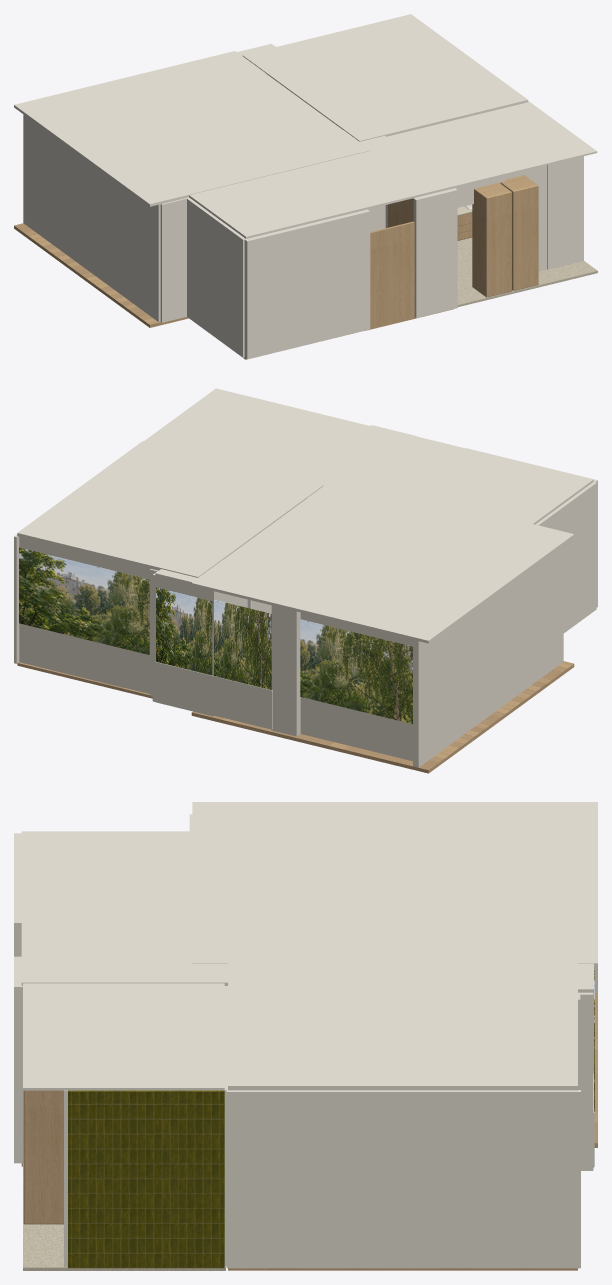
The model's file is apartment.glb.
The picture shows the model from 3 angles, top to bottom: view 1: azimuth 30°, elevation 25°; view 2: azimuth 150°, elevation 25°; view 3: azimuth 270°, elevation 25°; orthographic projection. The views are drawn at different scales.
Visible parts, largest first — view 1: Warm ceiling, Bedroom ceiling, Entry side.001, West wall, Bathroom ceiling, Storage ceiling, Dressing wall, Hall ceiling, Entry side, Entry door, Laundry tower, Tub end wall (+7 smaller); view 2: Warm ceiling, Bedroom ceiling, West wall, Bathroom ceiling, Pale sky glass.001, Pale sky glass, Storage ceiling, Hall ceiling, Wall below sill.001, Dressing wall, Loggia outer wall, Balcony glazing (+10 smaller); view 3: Warm ceiling, Headboard wall, Bedroom ceiling, Bath back wall, Bathroom ceiling, Storage ceiling, Hall ceiling, Laundry tower.001, Terrazzo floor, Loggia end wall, Entry side, Bedroom floor (+4 smaller).
Boxes of the visible parts, left/top/right/bottom form: Warm ceiling: left=14, top=51, right=370, bottom=206; Bedroom ceiling: left=242, top=14, right=528, bottom=141; Entry side.001: left=244, top=209, right=370, bottom=359; West wall: left=23, top=114, right=160, bottom=321; Bathroom ceiling: left=387, top=102, right=597, bottom=187; Storage ceiling: left=189, top=166, right=365, bottom=238; Dressing wall: left=187, top=198, right=245, bottom=357; Hall ceiling: left=308, top=130, right=453, bottom=209; Entry side: left=413, top=188, right=457, bottom=318; Entry door: left=370, top=221, right=414, bottom=328; Laundry tower: left=472, top=182, right=511, bottom=297; Tub end wall: left=547, top=156, right=583, bottom=269; Warm ceiling: left=191, top=476, right=574, bottom=643; Bedroom ceiling: left=17, top=441, right=323, bottom=577; West wall: left=413, top=545, right=563, bottom=767; Bathroom ceiling: left=144, top=388, right=369, bottom=478; Pale sky glass.001: left=19, top=547, right=149, bottom=654; Pale sky glass: left=300, top=619, right=412, bottom=723; Storage ceiling: left=405, top=448, right=593, bottom=524; Hall ceiling: left=298, top=425, right=465, bottom=498; Wall below sill.001: left=19, top=623, right=149, bottom=693; Dressing wall: left=535, top=482, right=596, bottom=633; Loggia outer wall: left=155, top=661, right=272, bottom=729; Balcony glazing: left=214, top=600, right=271, bottom=689; Warm ceiling: left=192, top=802, right=597, bottom=966; Headboard wall: left=226, top=1090, right=580, bottom=1268; Bedroom ceiling: left=228, top=963, right=577, bottom=1090; Bath back wall: left=68, top=1090, right=224, bottom=1268; Bathroom ceiling: left=23, top=983, right=224, bottom=1090; Storage ceiling: left=21, top=831, right=192, bottom=918; Hall ceiling: left=21, top=918, right=227, bottom=985; Laundry tower.001: left=23, top=1090, right=63, bottom=1224; Terrazzo floor: left=23, top=1163, right=225, bottom=1270; Loggia end wall: left=580, top=992, right=593, bottom=1170; Entry side: left=14, top=956, right=21, bottom=1163; Bedroom floor: left=228, top=1268, right=577, bottom=1270.
Bounding box in the file's own units: 9.45 × 2.86 × 8.16.
Materials: 79 (15 with a texture image).
